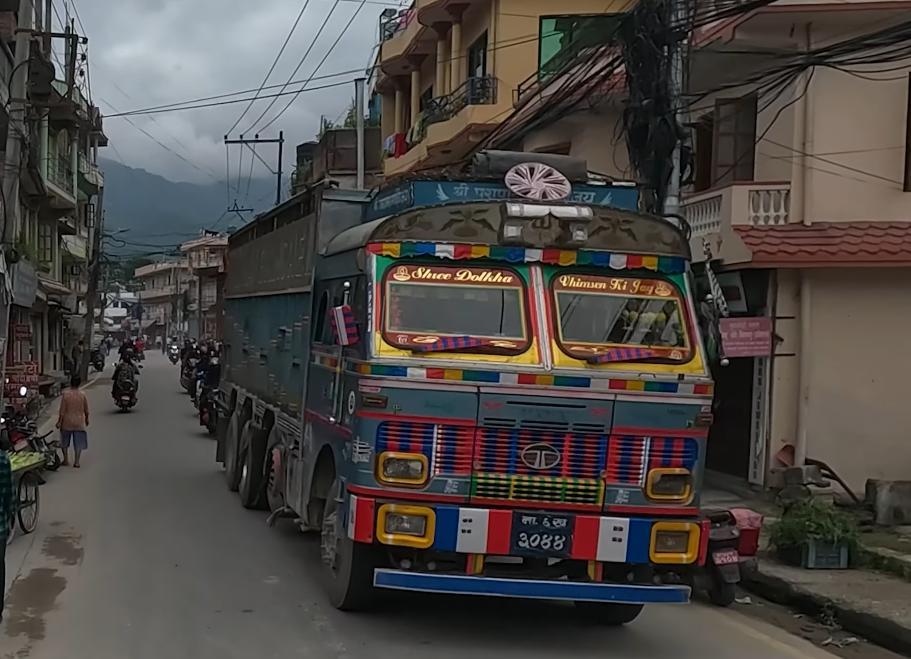truck: (211, 151, 742, 624)
